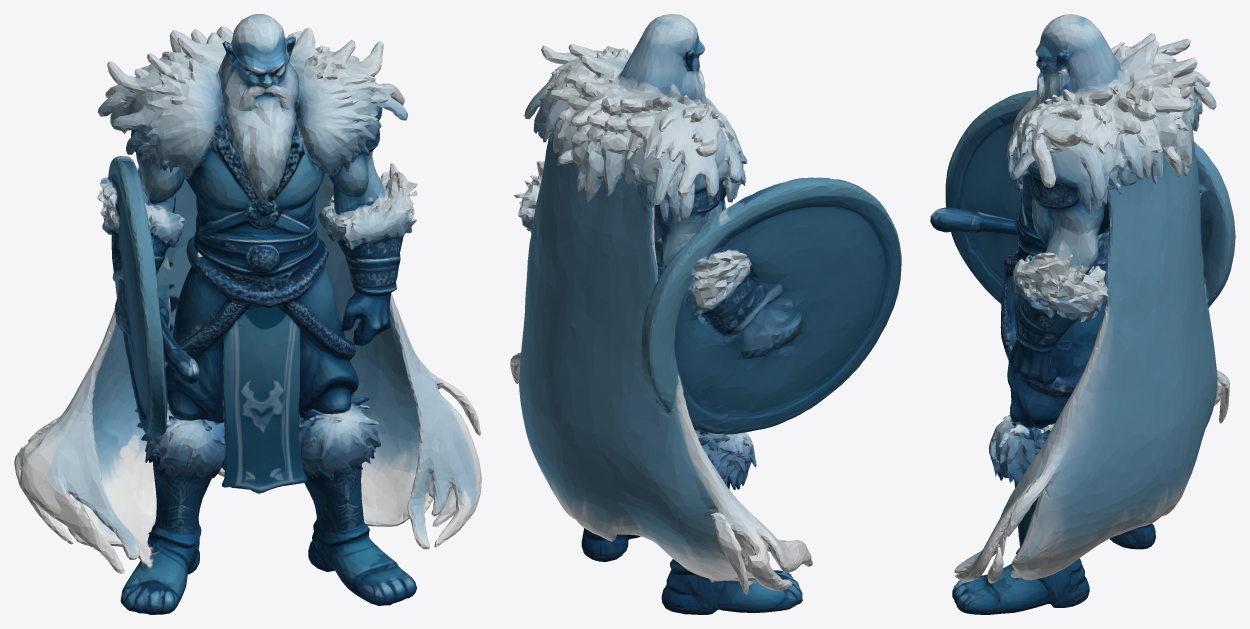
3 renders of one model, left to right at view 1: azimuth 30°, elevation 25°; view 2: azimuth 150°, elevation 25°; view 3: azimuth 270°, elevation 25°, orthographic. The views are drawn at different scales.
Visible parts, largest first — view 1: textured_mesh.obj; view 2: textured_mesh.obj; view 3: textured_mesh.obj.
Part boxes in pixels (box(x1,y1,x2,y2)): textured_mesh.obj: box(14, 14, 481, 614); textured_mesh.obj: box(510, 14, 901, 614); textured_mesh.obj: box(930, 14, 1235, 614).
Bounding box in the file's own units: 1.36 × 1.99 × 1.
1 material, 1 textured.
